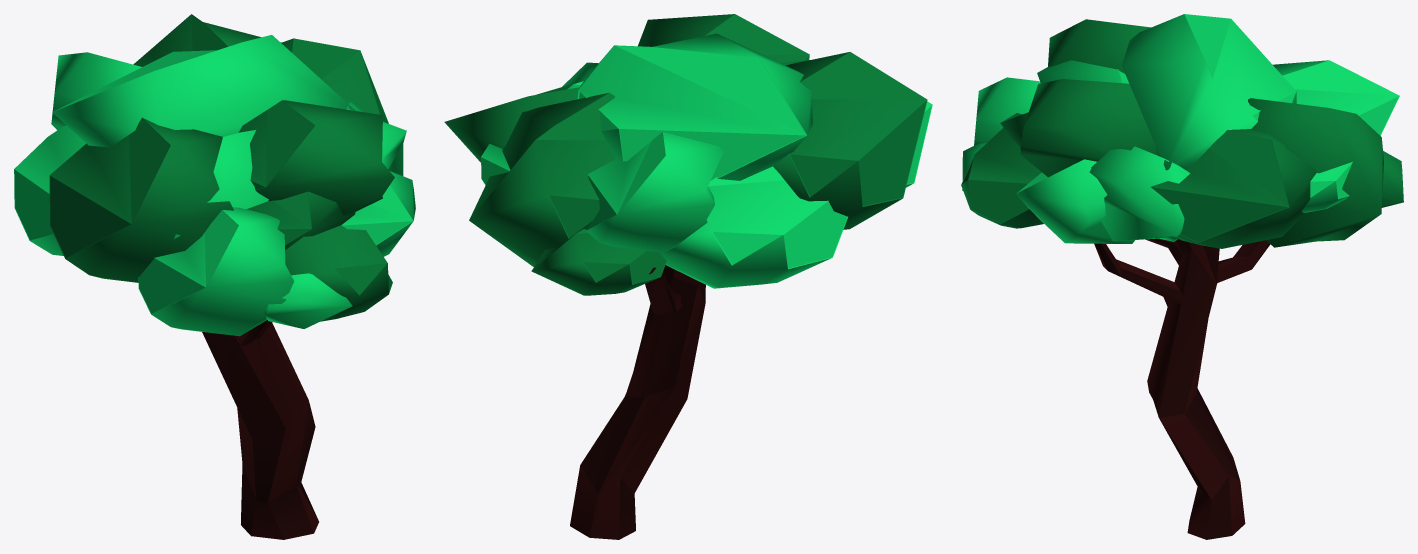
Rendered from Arbre.obj.
3 renders of one model, left to right at view 1: azimuth 30°, elevation 25°; view 2: azimuth 150°, elevation 25°; view 3: azimuth 270°, elevation 25°, orthographic. The views are drawn at different scales.
Parts seen in each view (by area): view 1: pPlatonic120; view 2: pPlatonic120; view 3: pPlatonic120.
Boxes of the visible parts, left/top/right/bottom form: pPlatonic120: left=14, top=14, right=415, bottom=539; pPlatonic120: left=444, top=14, right=932, bottom=539; pPlatonic120: left=961, top=14, right=1403, bottom=539.
Bounding box in the file's own units: 7.72 × 9.67 × 8.65.
